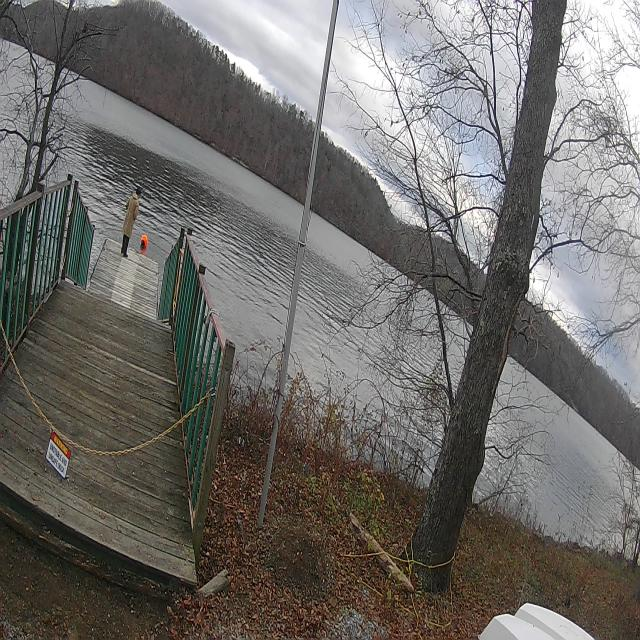Buoy: (140, 234, 148, 251)
